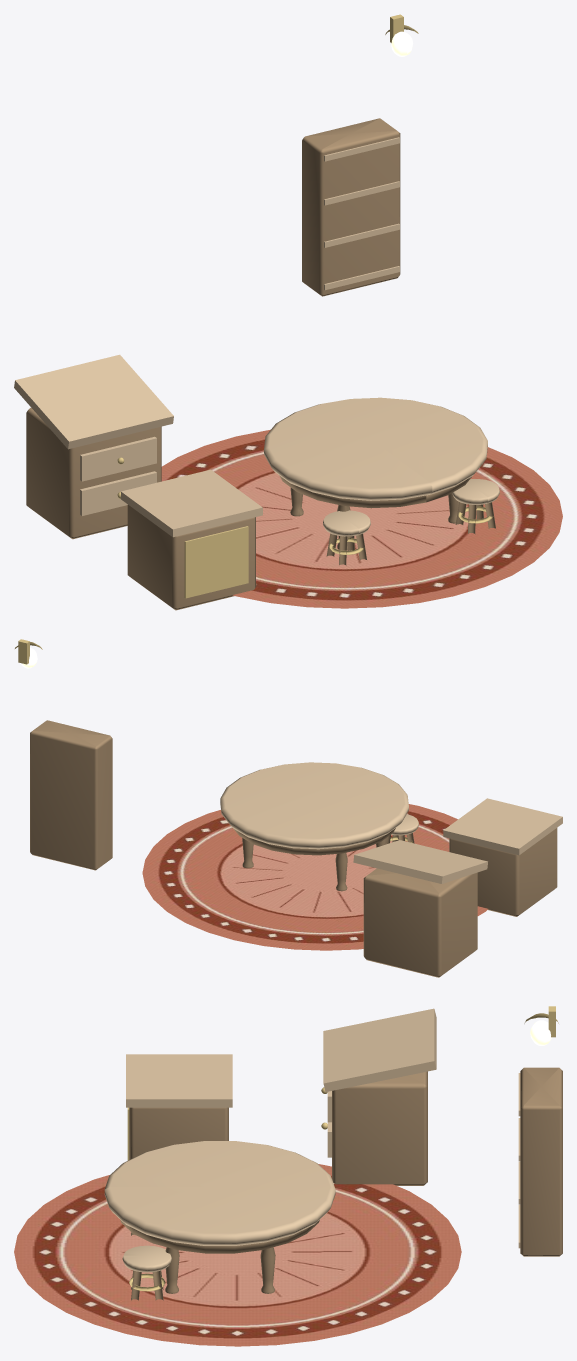
File: spatial_furniture.glb
3 views of the same model, one above another, from view 1: azimuth 30°, elevation 25°; view 2: azimuth 150°, elevation 25°; view 3: azimuth 270°, elevation 25° (orthographic). The views are drawn at different scales.
Visible parts, largest first — view 1: Spatial_Furniture_Set; view 2: Spatial_Furniture_Set; view 3: Spatial_Furniture_Set, Spatial_Wall_Lamp_Bulb.
Boxes of the visible parts, <box> form: Spatial_Furniture_Set: <box>14,14,562,610</box>; Spatial_Furniture_Set: <box>15,639,562,977</box>; Spatial_Furniture_Set: <box>14,1006,562,1346</box>; Spatial_Wall_Lamp_Bulb: <box>530,1020,552,1045</box>.
Size of the model in its own units: 3.03 by 2.17 by 3.09.
5 materials, 1 textured.
